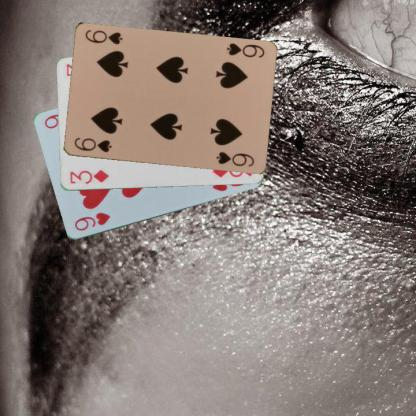3d: (67, 167, 110, 185)
6s: (223, 40, 266, 60), (71, 135, 113, 154)
9h: (72, 210, 112, 232)
